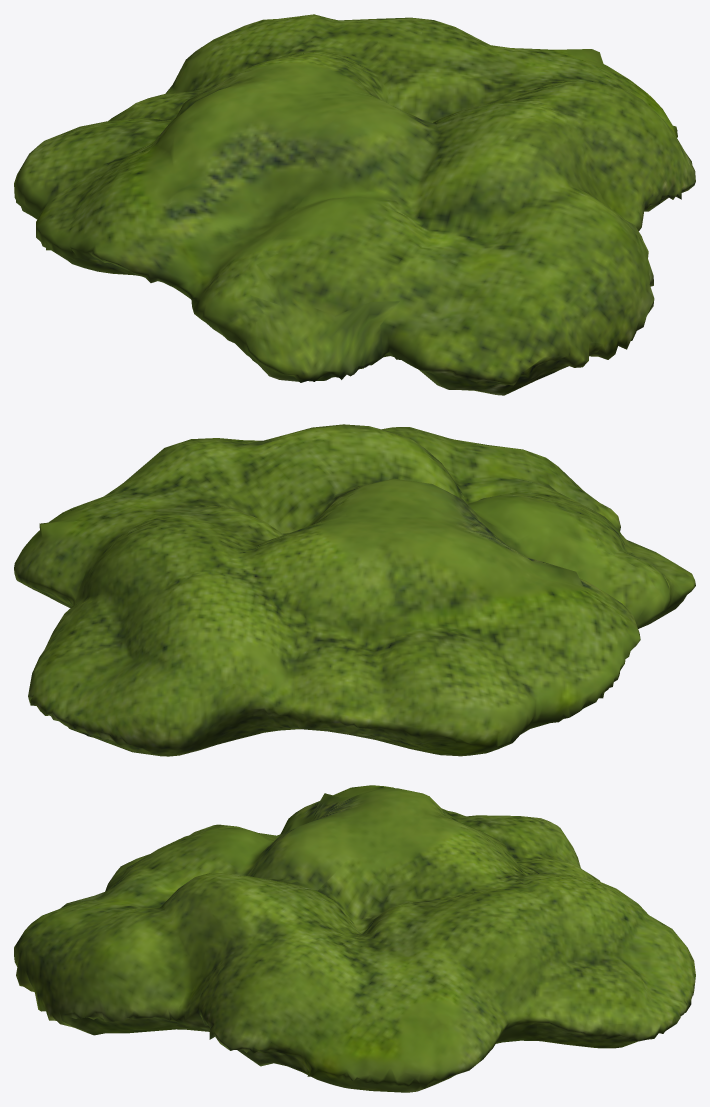
The model's file is Piso_Musgo_3.glb.
3 views of the same model, one above another, from view 1: azimuth 30°, elevation 25°; view 2: azimuth 150°, elevation 25°; view 3: azimuth 270°, elevation 25° (orthographic). The views are drawn at different scales.
Visible parts, largest first — view 1: Piso Musgo 3; view 2: Piso Musgo 3; view 3: Piso Musgo 3.
Part boxes in pixels (x1,y1,x2,y2): Piso Musgo 3: (14,14,695,395); Piso Musgo 3: (14,424,695,756); Piso Musgo 3: (14,785,695,1092).
Bounding box in the file's own units: 0.2396 × 0.0701 × 0.2651.
Materials: 1 (1 with a texture image).
